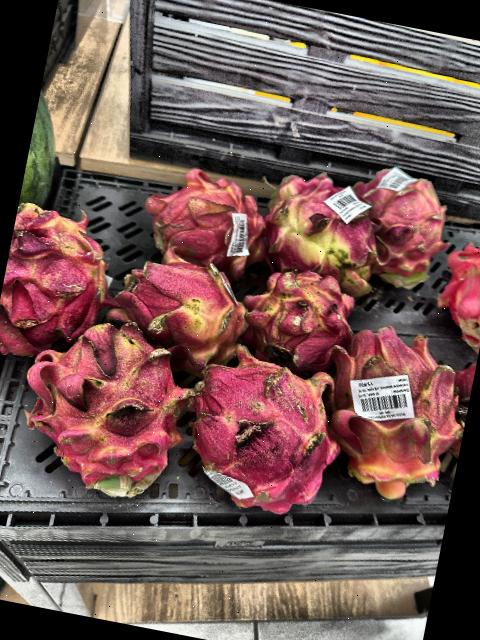buah-naga-belum-matang: (8, 307, 202, 507), (308, 319, 480, 513), (0, 196, 121, 372), (106, 245, 257, 376), (249, 168, 389, 300), (234, 258, 363, 376), (344, 160, 458, 286)
buah-naga-matang: (171, 340, 350, 522), (130, 156, 280, 278), (426, 221, 480, 352)
